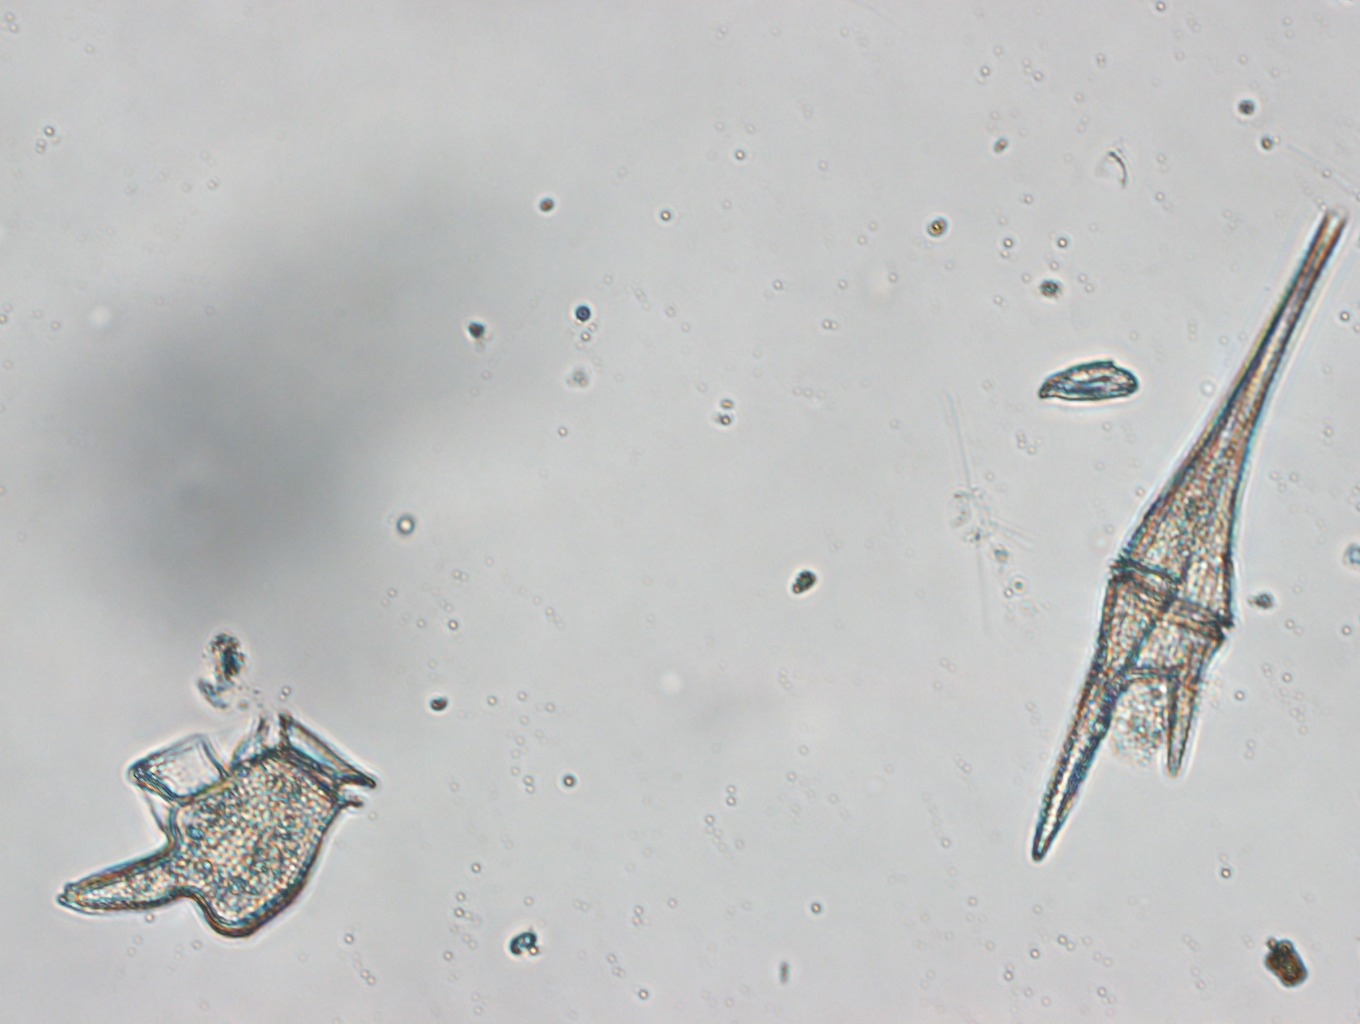ceratium furca: (1030, 202, 1346, 865)
dinophysis caudata: (53, 707, 377, 942)
